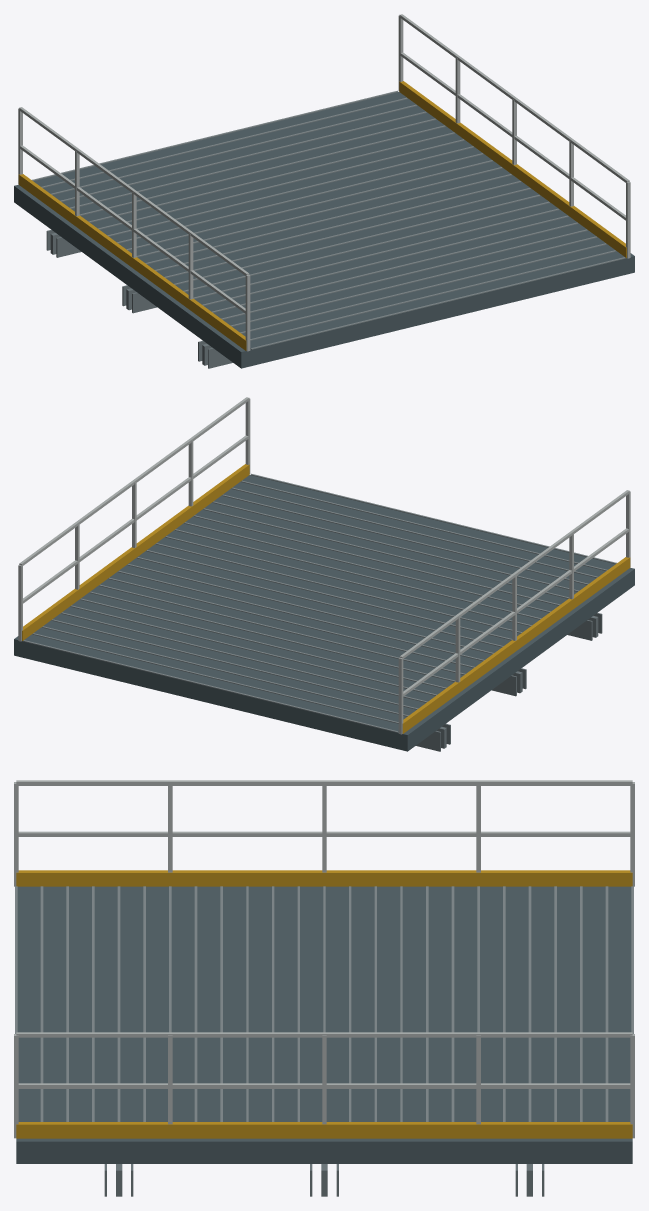
The model's file is catwalk.glb.
3 renders of one model, top to bottom at view 1: azimuth 30°, elevation 25°; view 2: azimuth 150°, elevation 25°; view 3: azimuth 270°, elevation 25°, orthographic. The views are drawn at different scales.
Visible parts, largest first — view 1: body; view 2: body; view 3: body.
Part boxes in pixels (x1,y1,x2,y2): body: (14, 14, 634, 368); body: (14, 397, 634, 751); body: (14, 780, 634, 1196).
Bounding box in the file's own units: 6 × 1.71 × 6.05.
